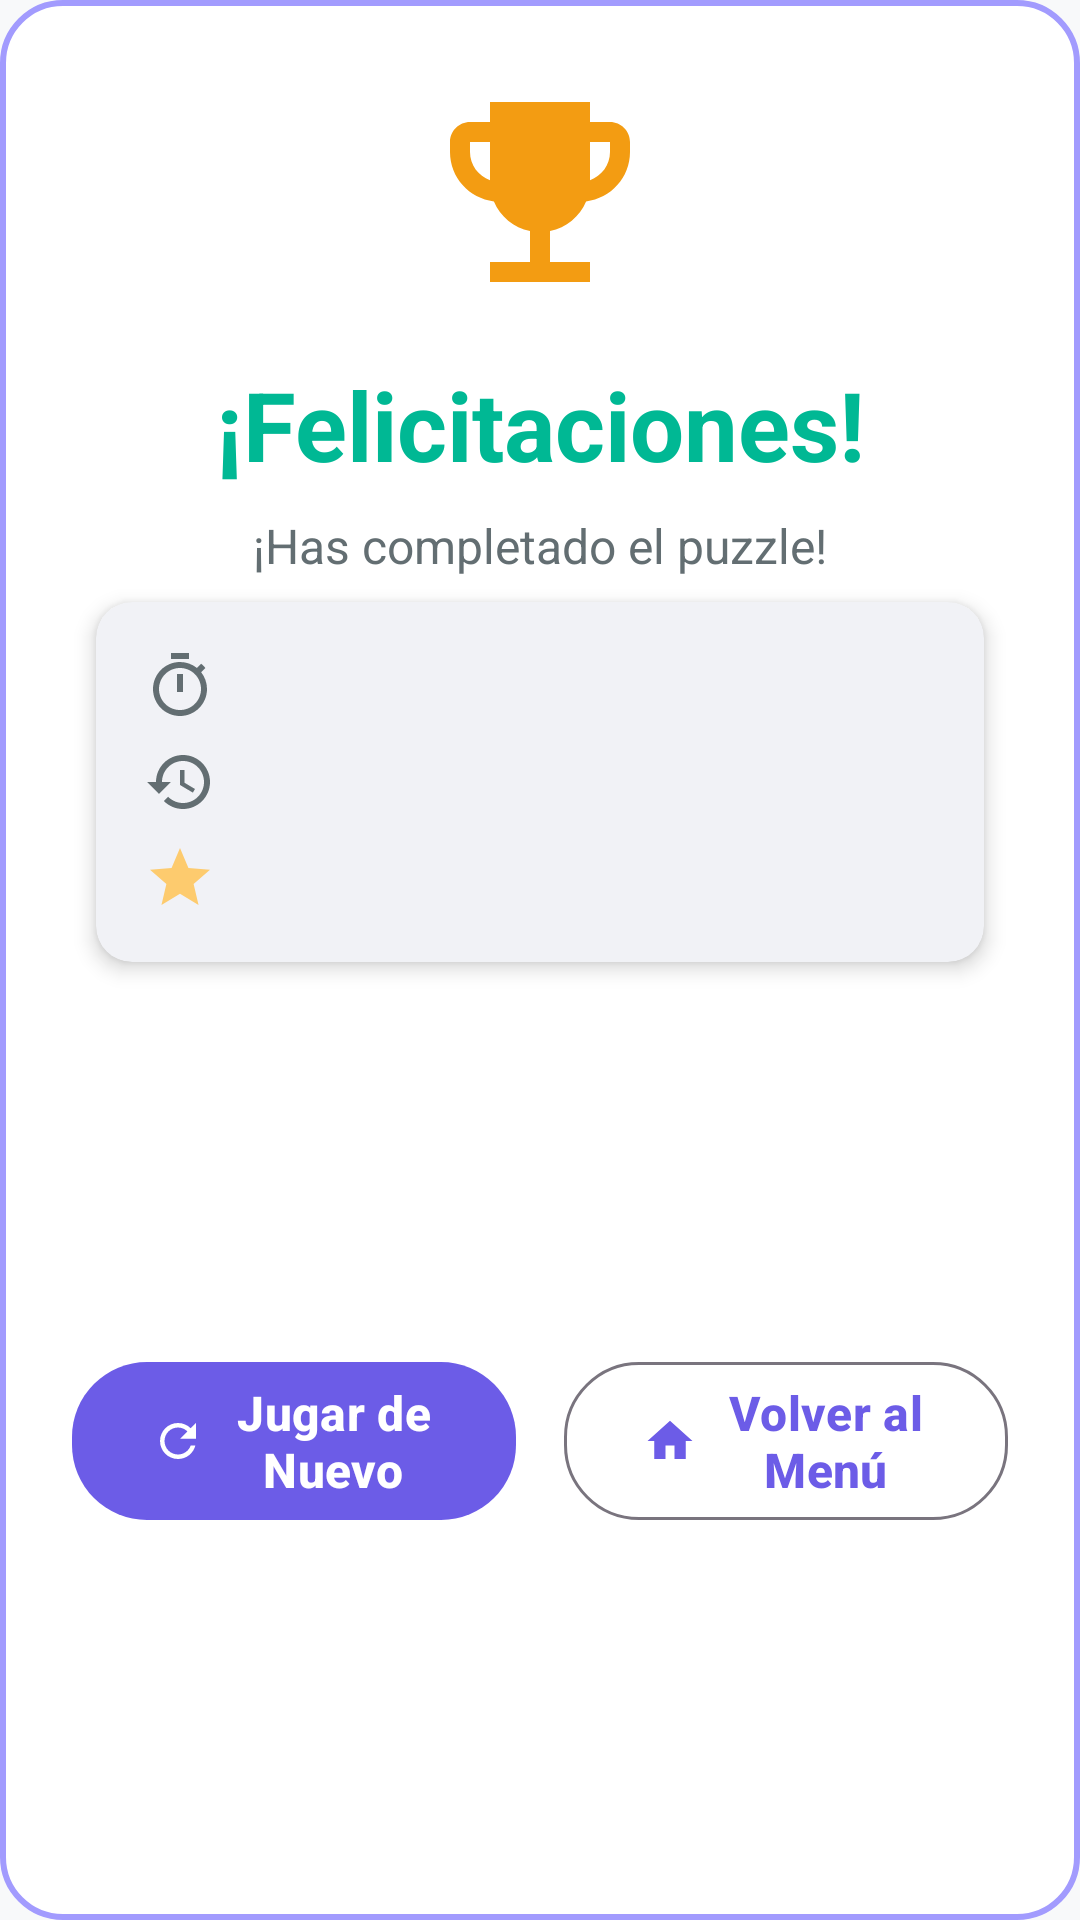

Named icons in this screenshot (1080w x 1920h) and their centers, point (x, y):
moves: point (178, 782)
star: point (180, 876)
timer: point (180, 684)
